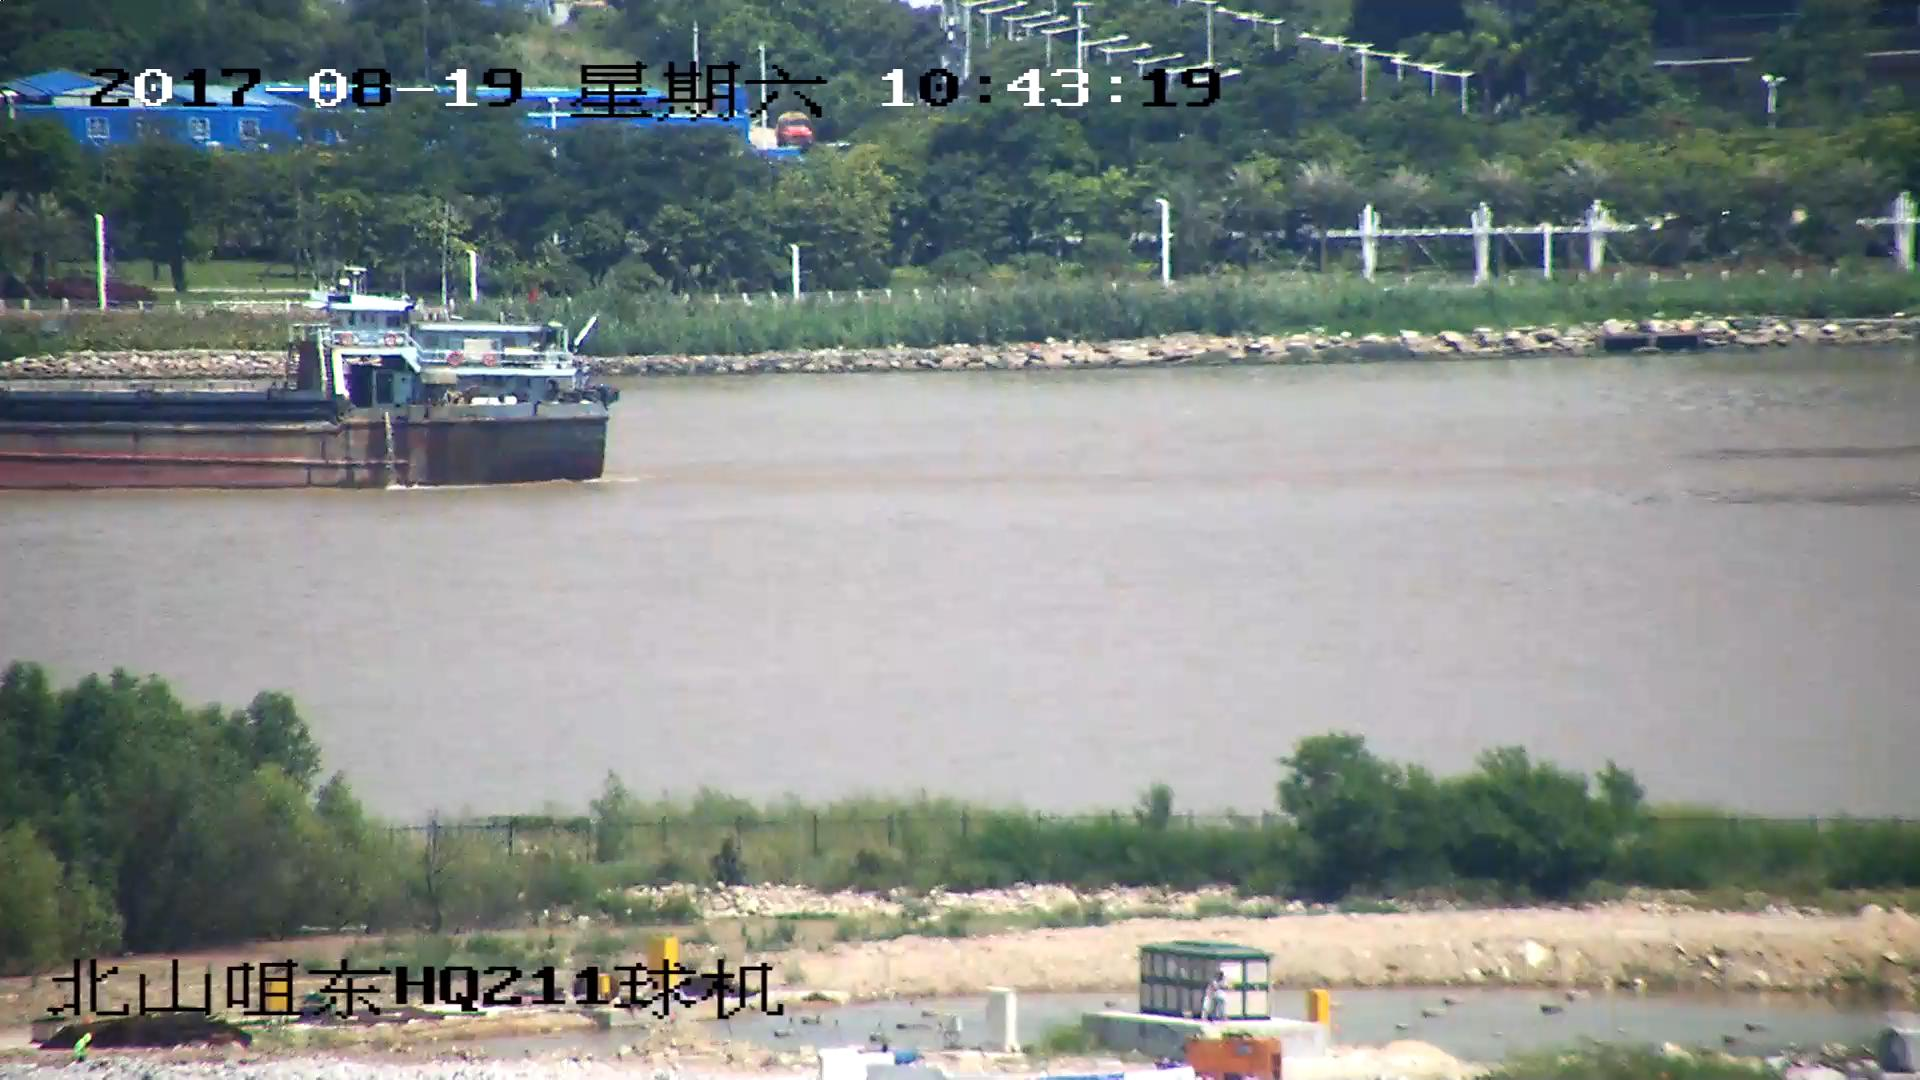bulk cargo carrier: (1, 268, 611, 486)
